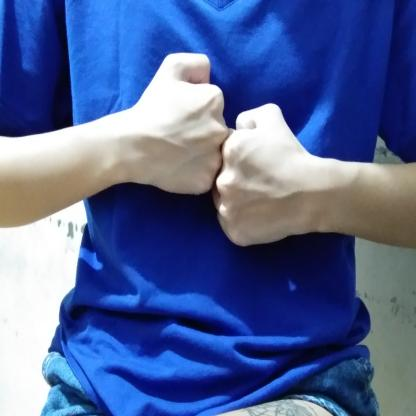brother: (113, 45, 323, 249)
